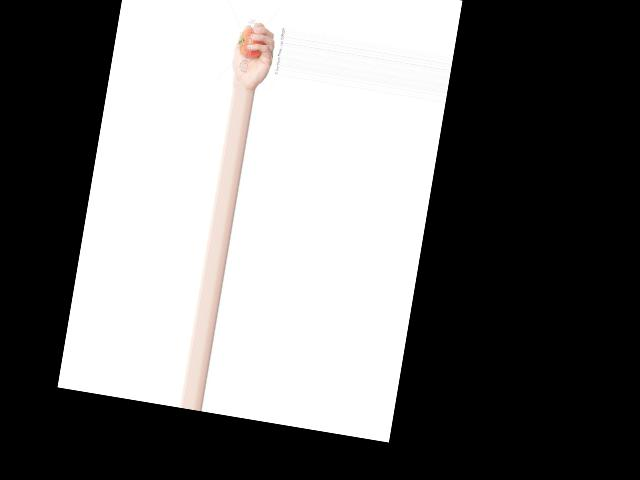tomato: (237, 25, 267, 58)
